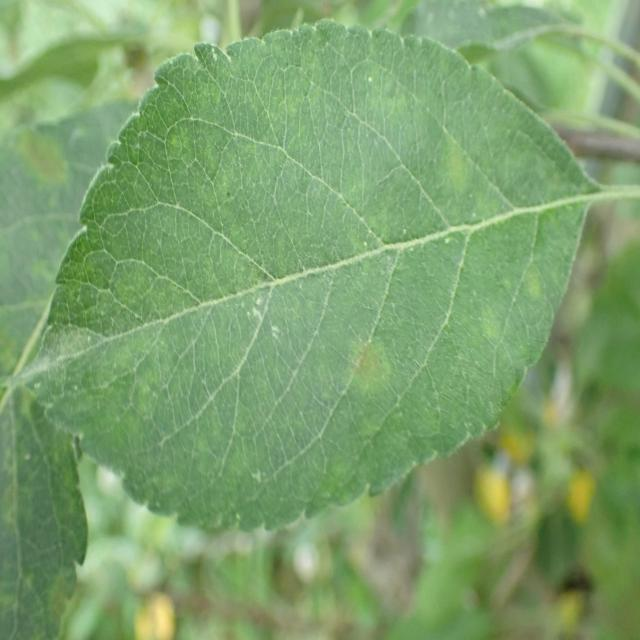scab: (166, 80, 564, 438), (0, 358, 125, 635), (0, 98, 110, 224)
